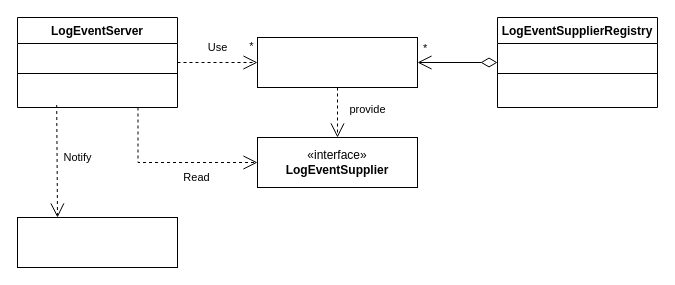
Image size: 675x285. Some labels were removed from this diagram. The centre of each missing label's shape, as x and y in pixels:
"«interface» Consumer" goes at (x=97, y=242).
"«interface» LogEventSupplierFactory" goes at (x=337, y=62).
